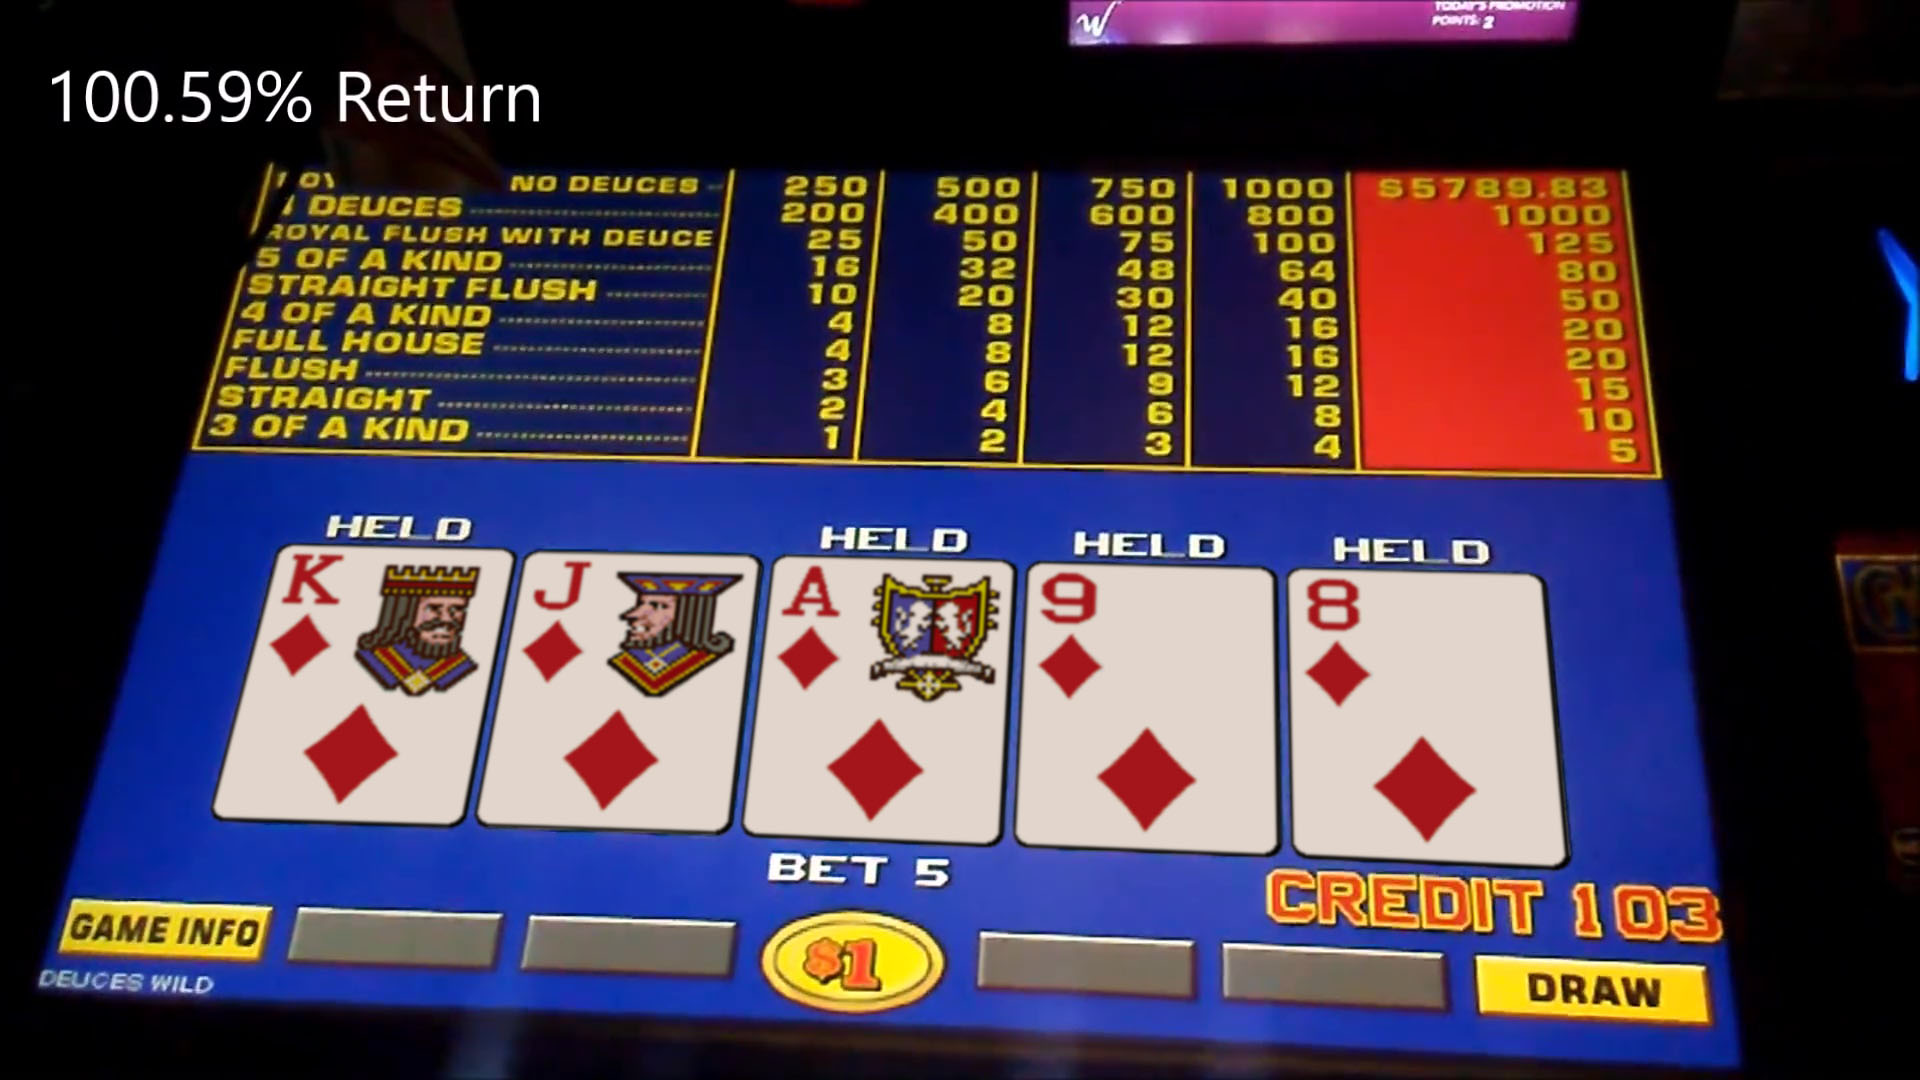D8: (1294, 575, 1540, 707)
D9: (1027, 566, 1270, 704)
DA: (771, 558, 1007, 696)
DJ: (520, 553, 745, 688)
DK: (265, 549, 491, 684)
